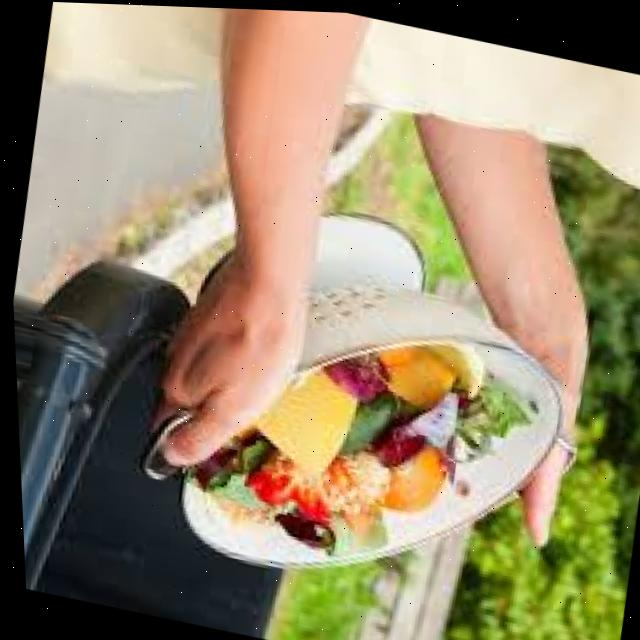Wet: (125, 252, 601, 640)
